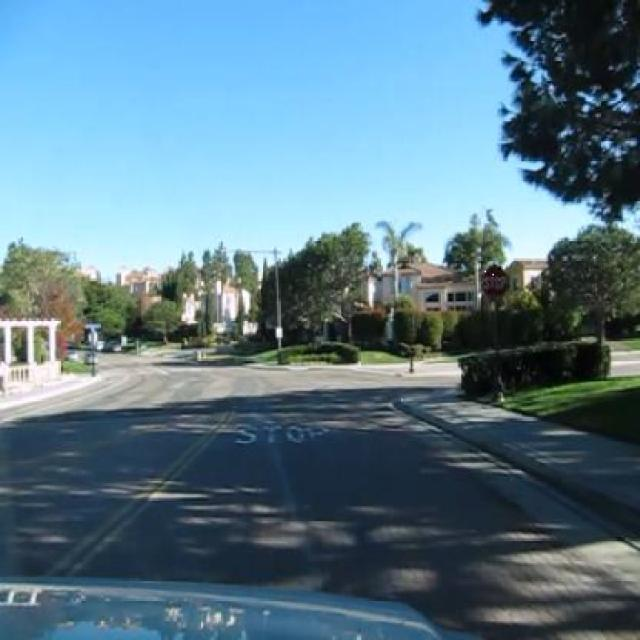stop: (483, 263, 511, 303)
